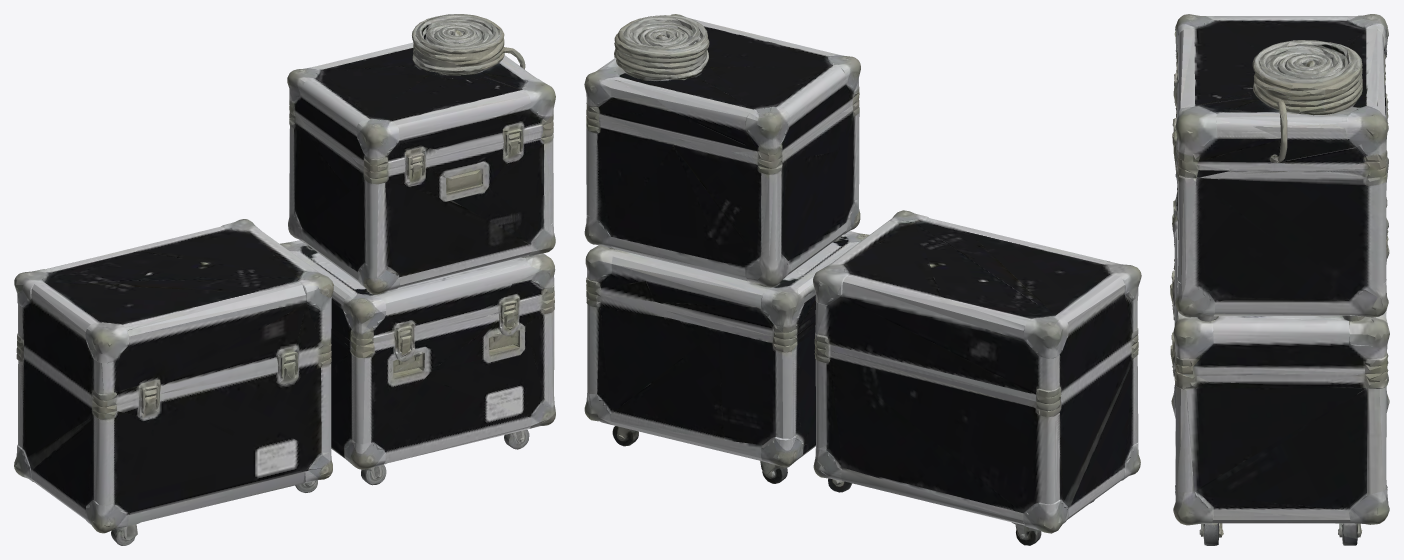
File: docaFlightCases.glb
3 views of the same model, side by side, from view 1: azimuth 30°, elevation 25°; view 2: azimuth 150°, elevation 25°; view 3: azimuth 270°, elevation 25° (orthographic). The views are drawn at different scales.
Bounding box in the file's own units: 1.9 × 1.53 × 0.6368.
Materials: 1 (1 with a texture image).
